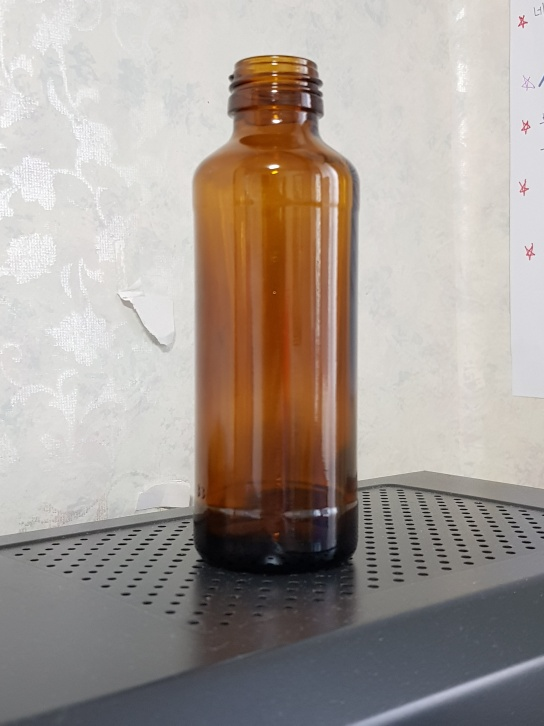Glass: (187, 52, 362, 580)
